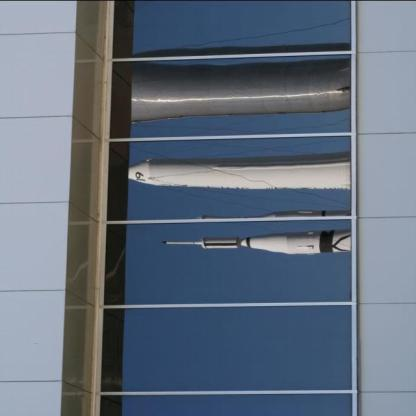MIL_TBM: (124, 153, 349, 192), (240, 230, 355, 254)
